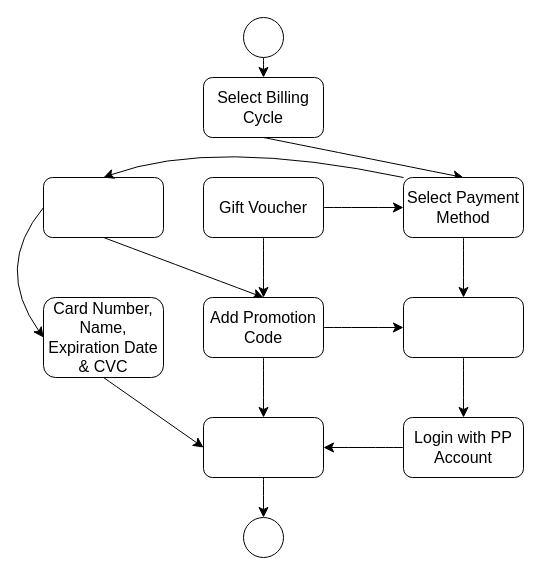
The diagram is 542 pixels wide and 575 high, and some of its shapes have lost their labels. The centre of each missing label's shape, as x and y in pixels:
"Confirm Payment" belongs at pixel 263 447.
"Credit Card" belongs at pixel 103 207.
"PayPal" belongs at pixel 463 327.
